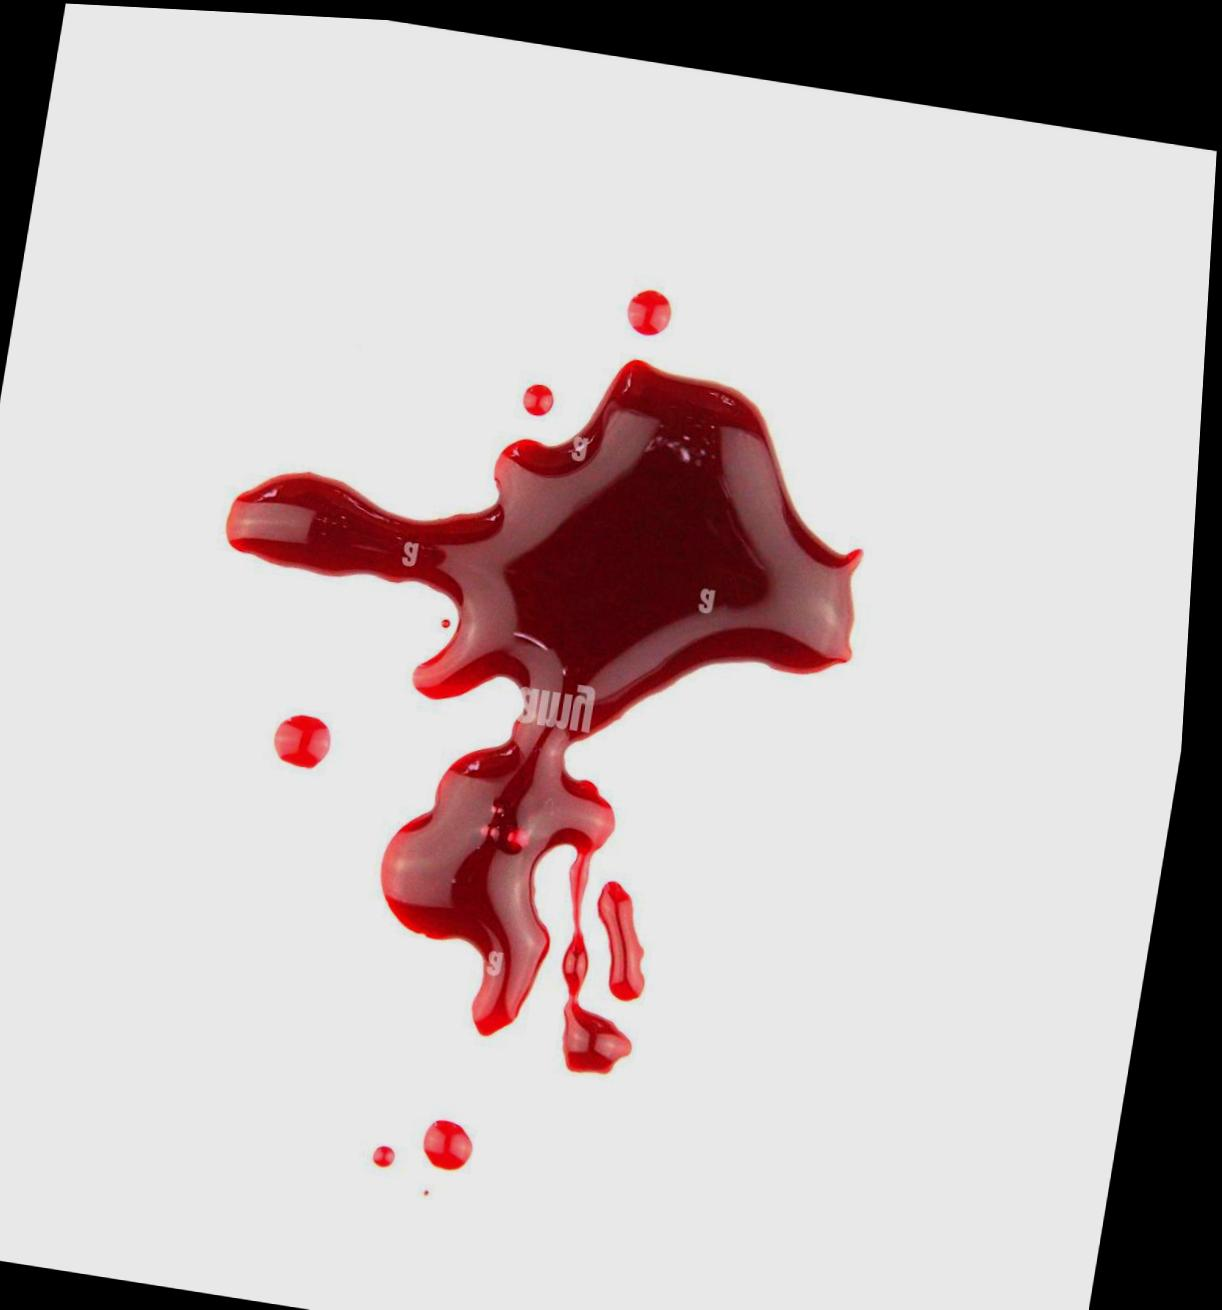Fire: (232, 352, 871, 1069), (608, 874, 657, 994), (283, 712, 340, 766), (436, 1115, 487, 1166), (631, 282, 675, 330), (526, 379, 558, 411)
